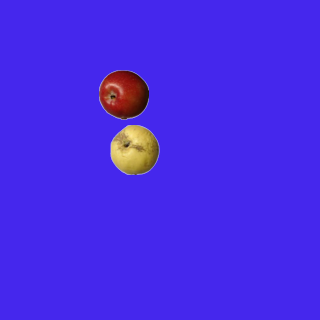Apple Braeburn: (98, 69, 148, 119)
Apple Golden 1: (109, 124, 159, 174)
